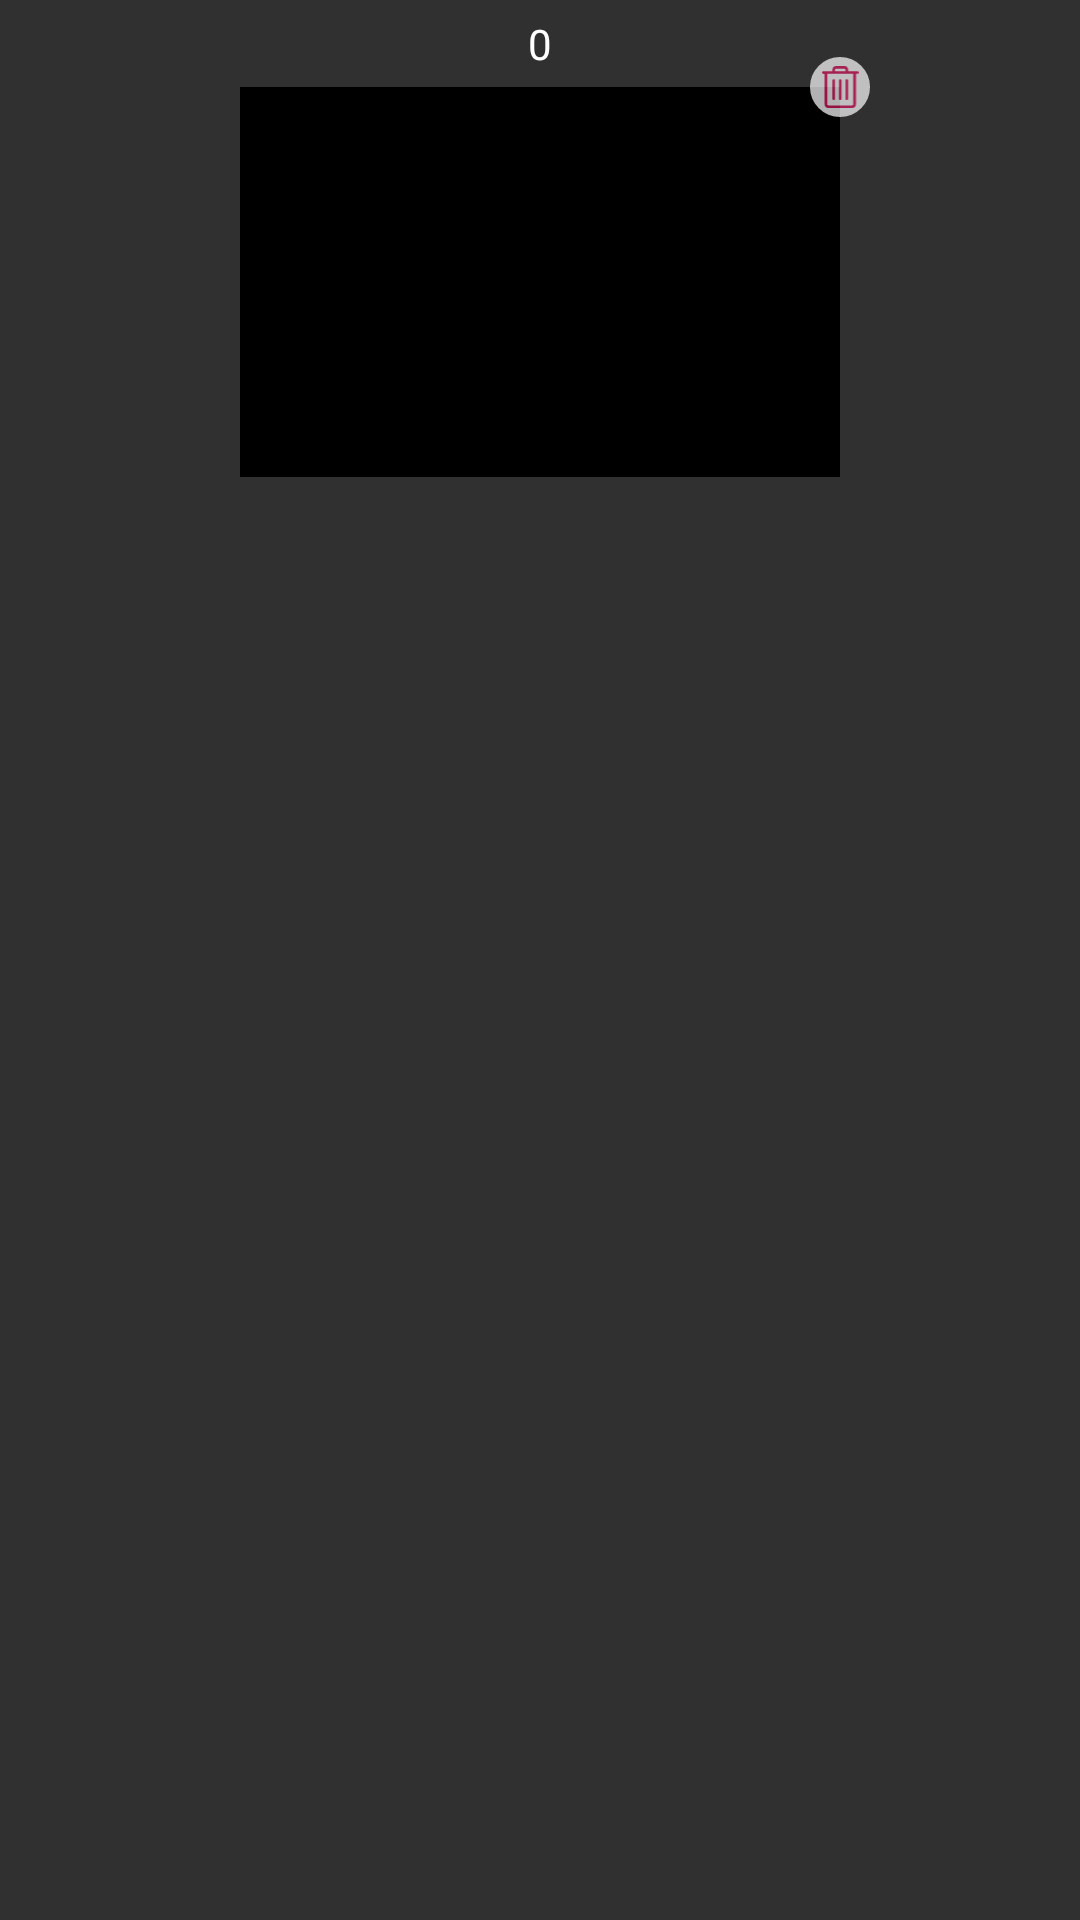

Named icons in this screenshot (1080x1920) and their centers, (x,y):
削除ボタン: (840,87)
